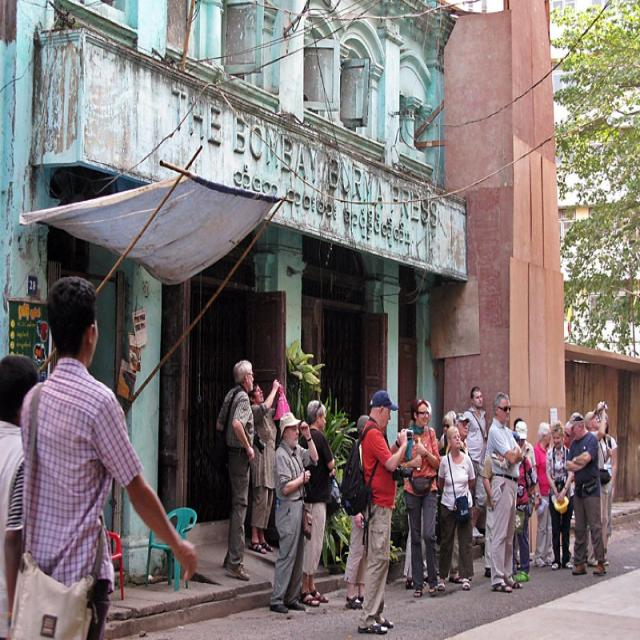body: (3, 271, 202, 639), (398, 398, 532, 588), (339, 387, 415, 636), (213, 356, 267, 584), (0, 353, 40, 640), (266, 409, 321, 614), (395, 396, 442, 600), (298, 396, 342, 608), (486, 389, 525, 595), (563, 410, 607, 577), (435, 423, 476, 593), (246, 376, 282, 554), (342, 412, 371, 611), (445, 411, 477, 583), (584, 400, 613, 567), (545, 419, 575, 572), (462, 386, 489, 540), (511, 430, 538, 583), (531, 418, 557, 570), (513, 419, 541, 510), (603, 420, 619, 538), (562, 418, 576, 449)
